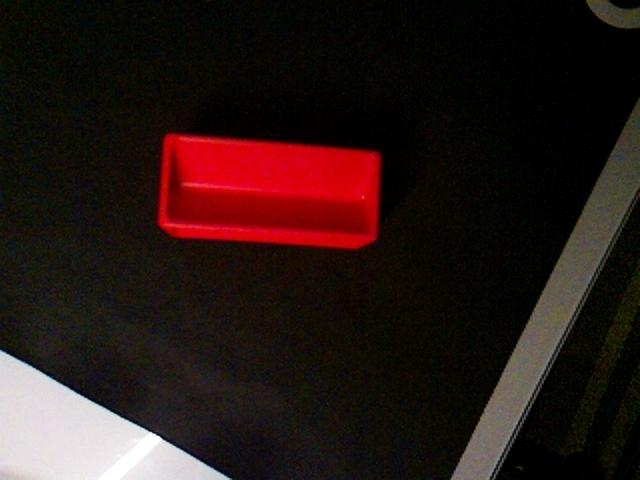red: (156, 131, 384, 251)
